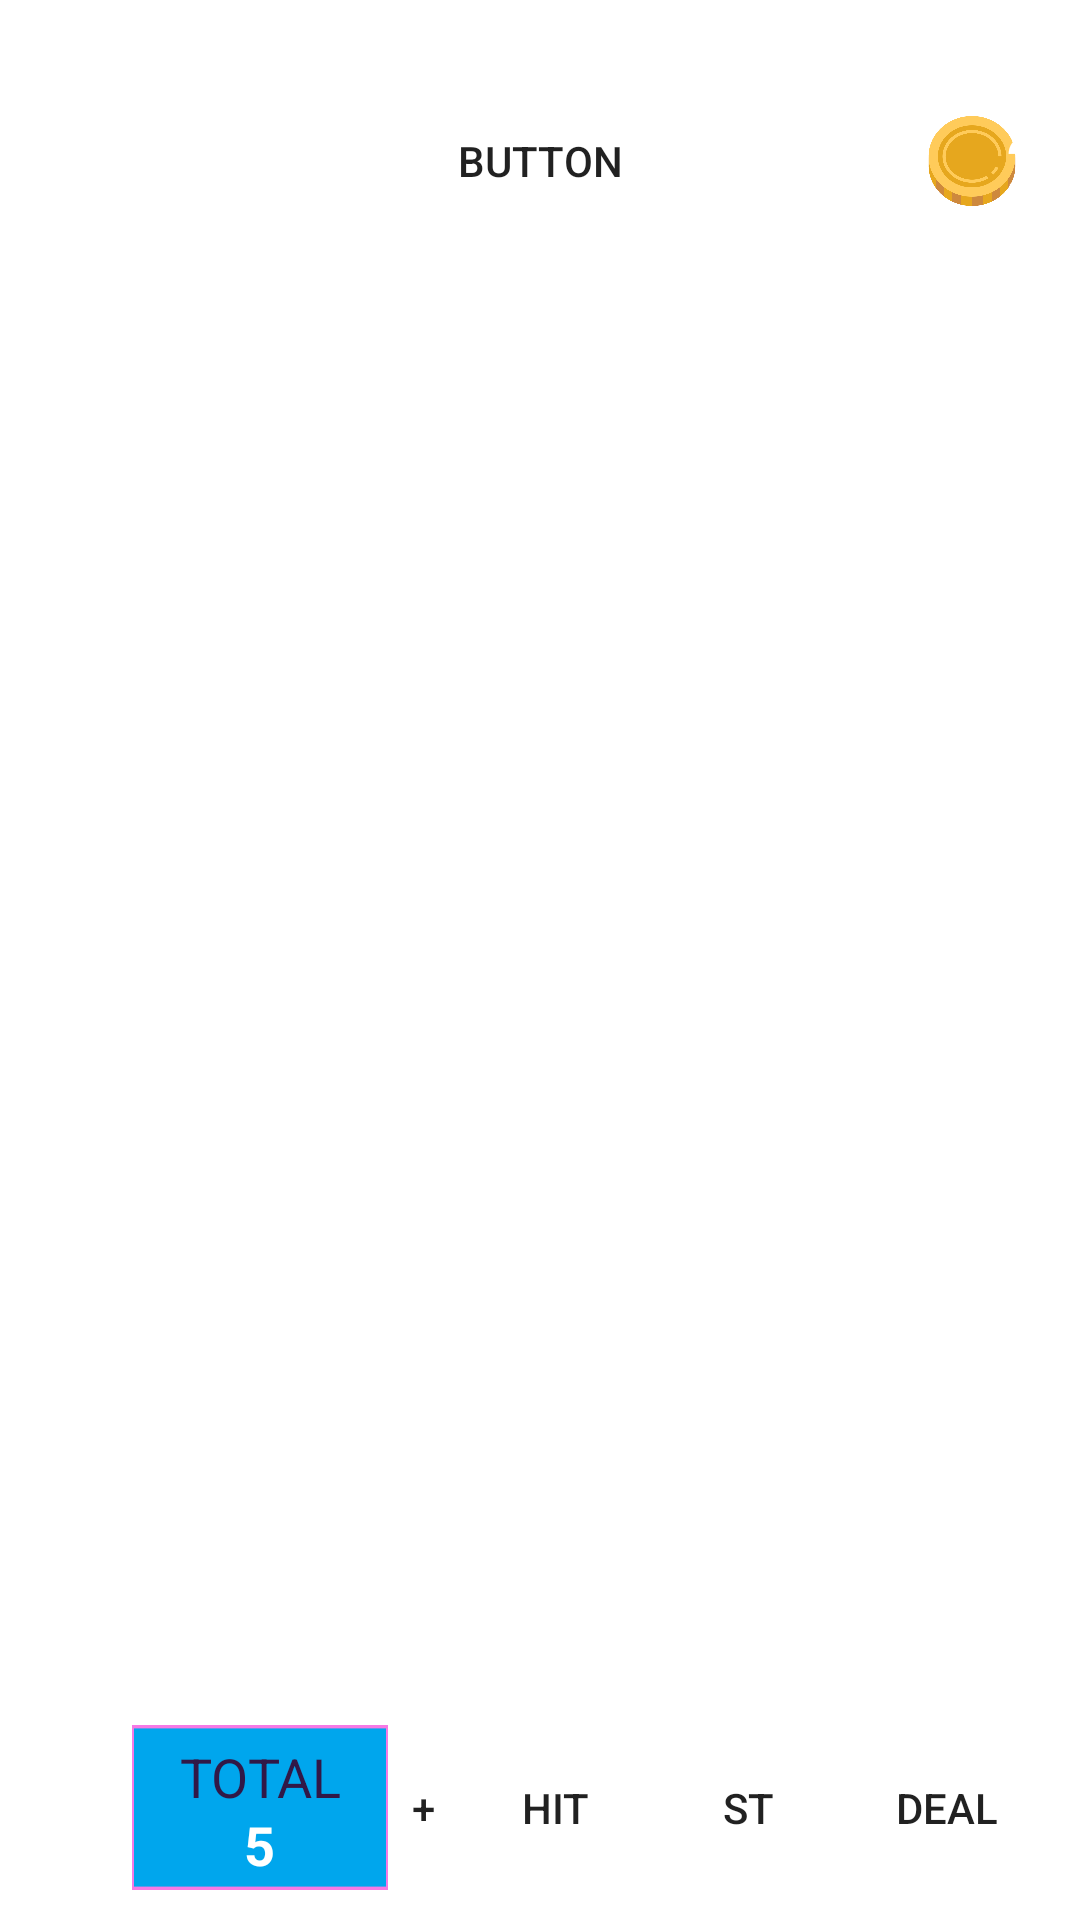

Named icons in this screenshot (1080w x 1920h) and their centers, (x=x, y=y):
coin: (x=972, y=161)
